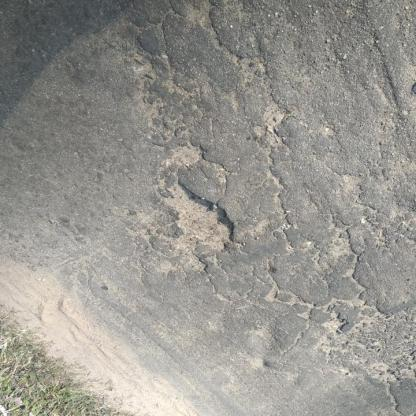pothole: (162, 184, 240, 255), (168, 146, 207, 172)
